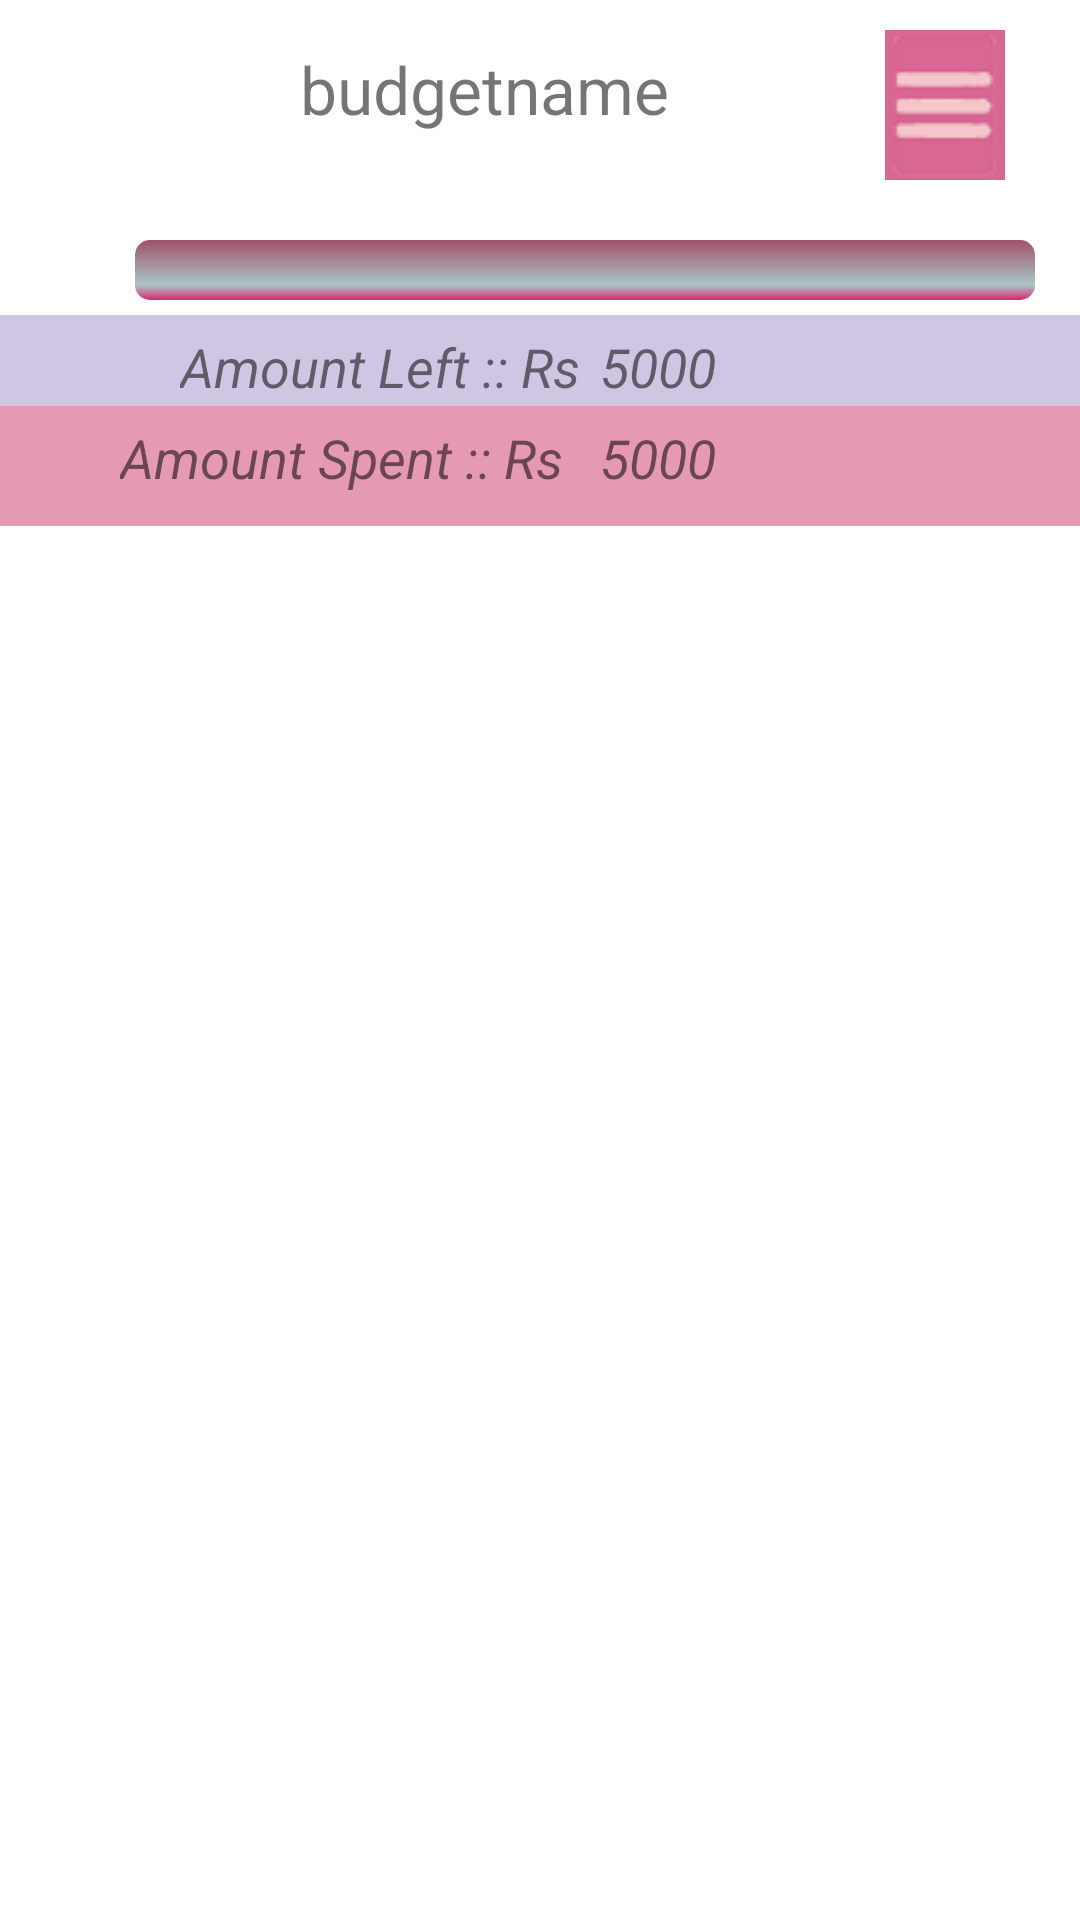

Icons on this 1080 x 1920 Android screen, each with the point to tap as (x=x, y=y):
popupmenuicon: (x=945, y=105)
